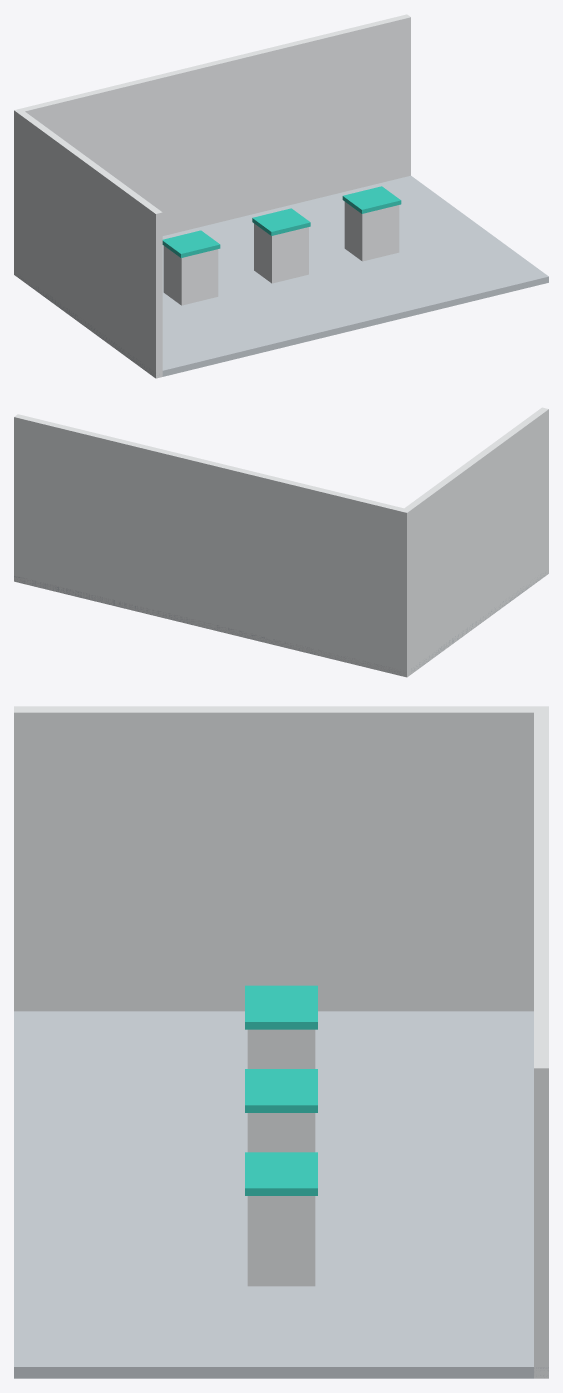
3 views of the same model, one above another, from view 1: azimuth 30°, elevation 25°; view 2: azimuth 150°, elevation 25°; view 3: azimuth 270°, elevation 25° (orthographic). The views are drawn at different scales.
Visible parts, largest first — view 1: Exhibition Booth Concept; view 2: Exhibition Booth Concept; view 3: Exhibition Booth Concept.
Boxes of the visible parts, x1=… form: Exhibition Booth Concept: x1=14, y1=14, x2=548, y2=378; Exhibition Booth Concept: x1=14, y1=407, x2=548, y2=677; Exhibition Booth Concept: x1=14, y1=706, x2=548, y2=1378.
Bounding box in the file's own units: 8 × 3.2 × 5.
